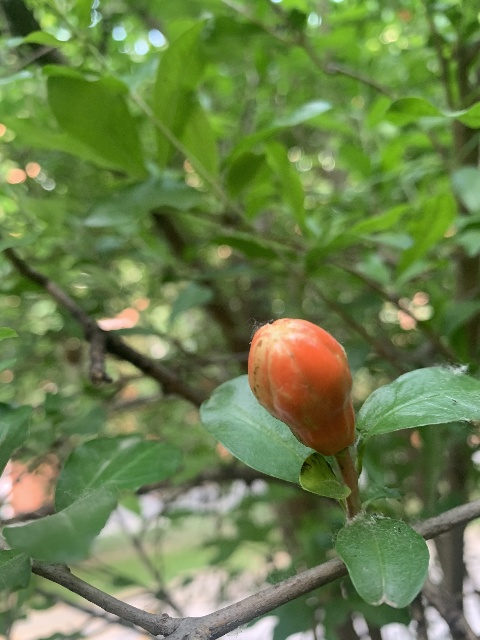bud: (247, 317, 355, 456)
